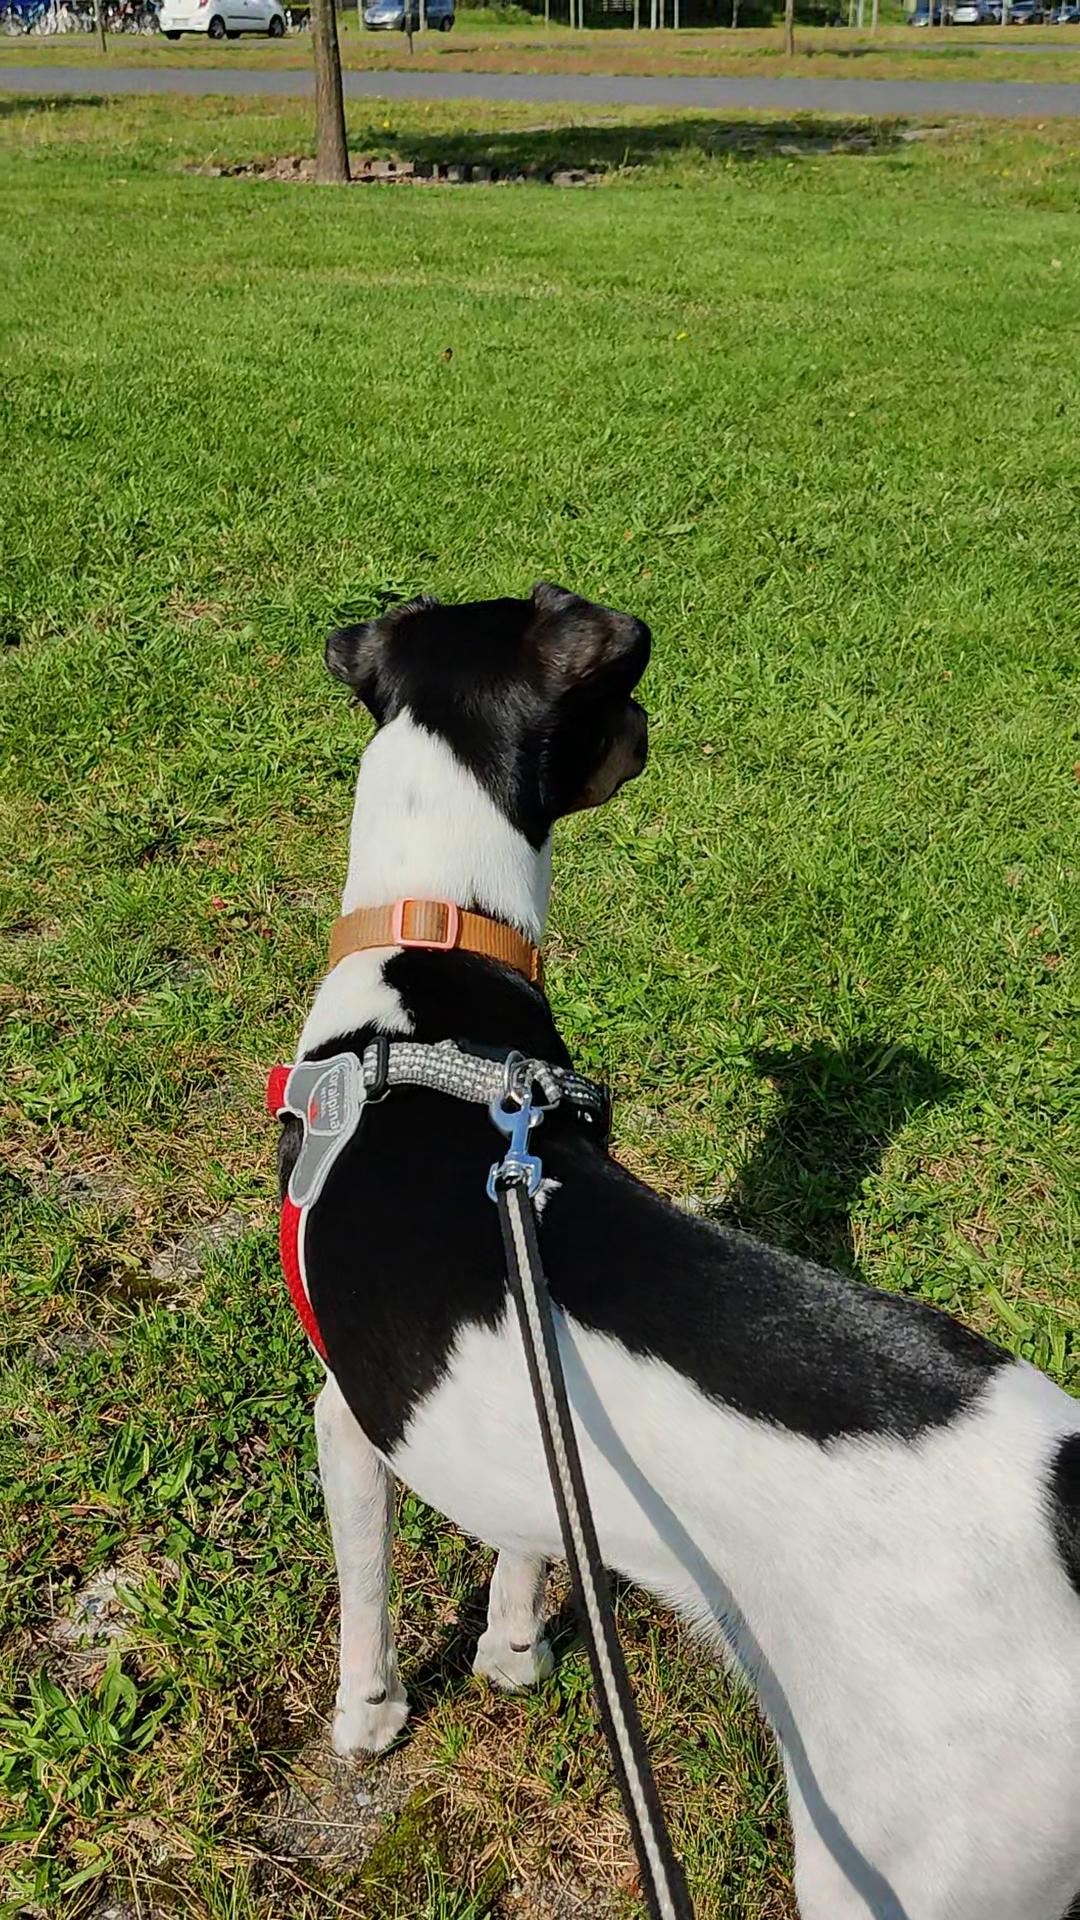Dog: (257, 574, 1079, 1919)
